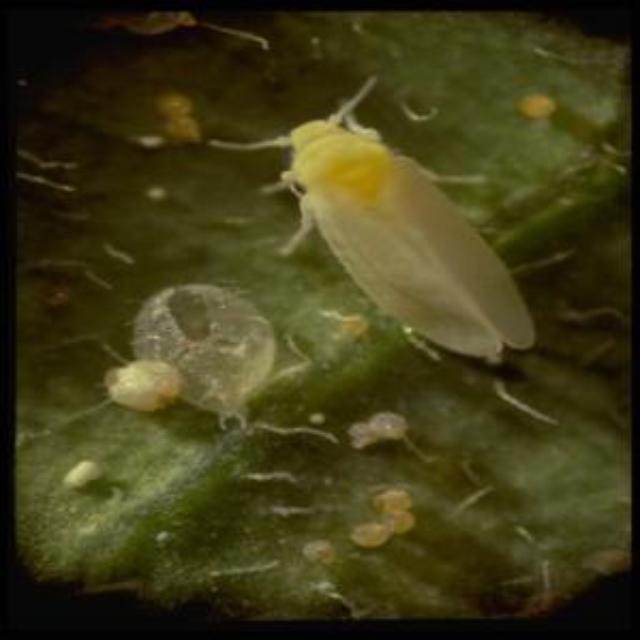Silverleaf whitefly: (177, 80, 559, 380), (84, 269, 290, 449), (332, 410, 444, 574)
